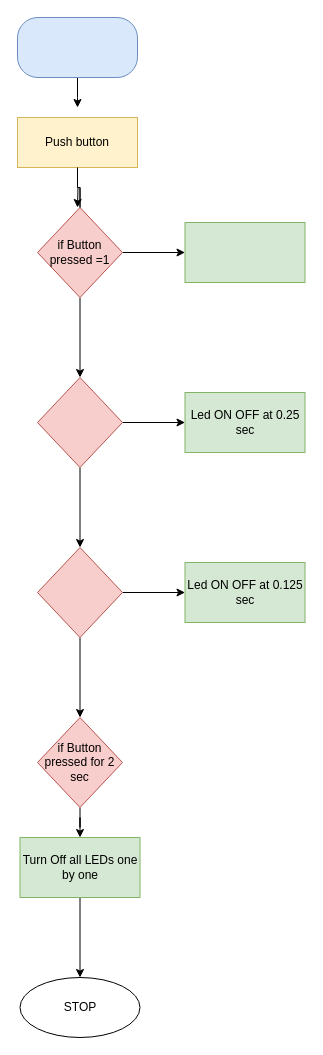
Some shapes in this 323 by 1055 pixel diagram are drawn without their labels. The centre of each missing label's shape, as x and y in pixels:
"Begin" goes at [77,47].
"if Button pressed =2" goes at [79,422].
"if Button pressed =3" goes at [79,592].
"Led ON OFF at 1 sec" goes at [244,252].
